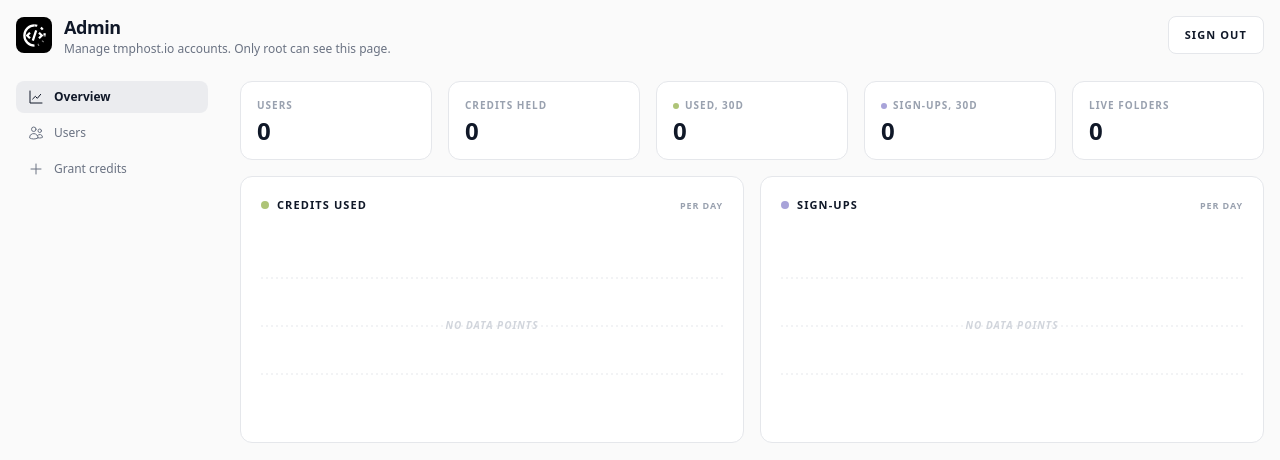
AdminView › does not grant 0 credits
Click the button with test id "admin-tab-grant" at (112, 169), box [16,153,208,185]
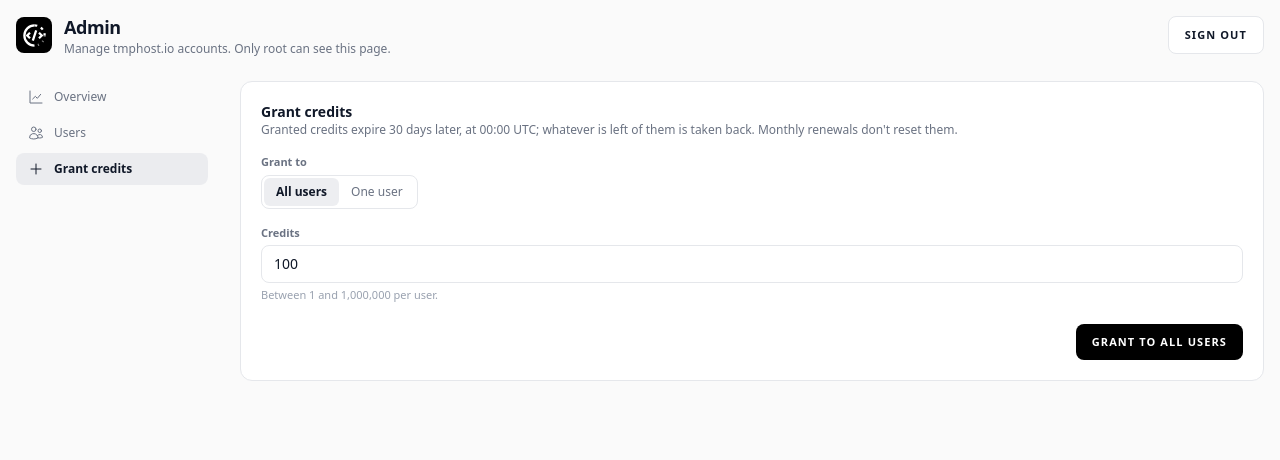
Replace the text in the number field with test id "admin-credits" with "0" at (752, 264), box [261,245,1243,283]
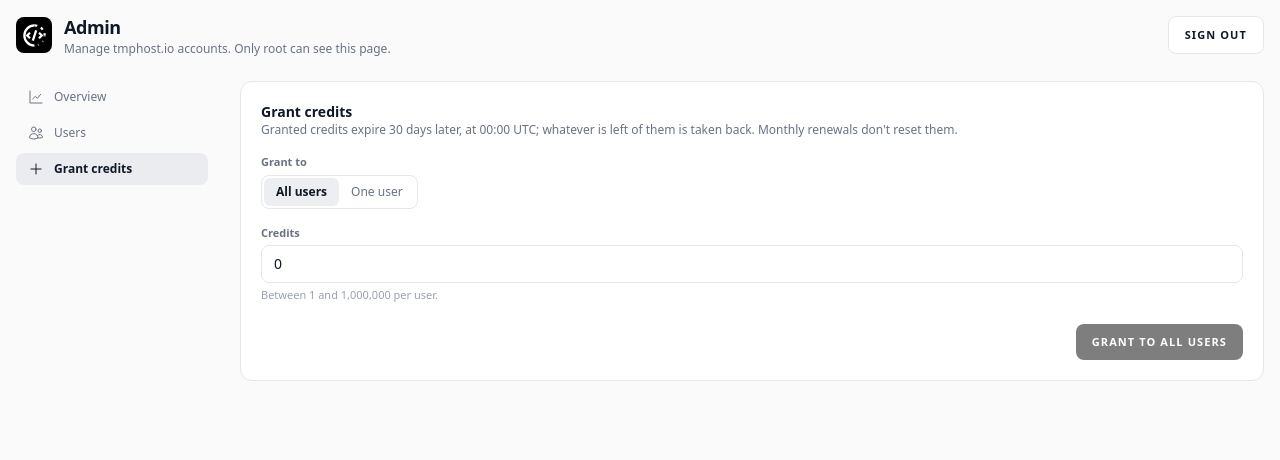
Now the button with test id "admin-grant-submit" is disabled, box [1076,324,1243,360]
